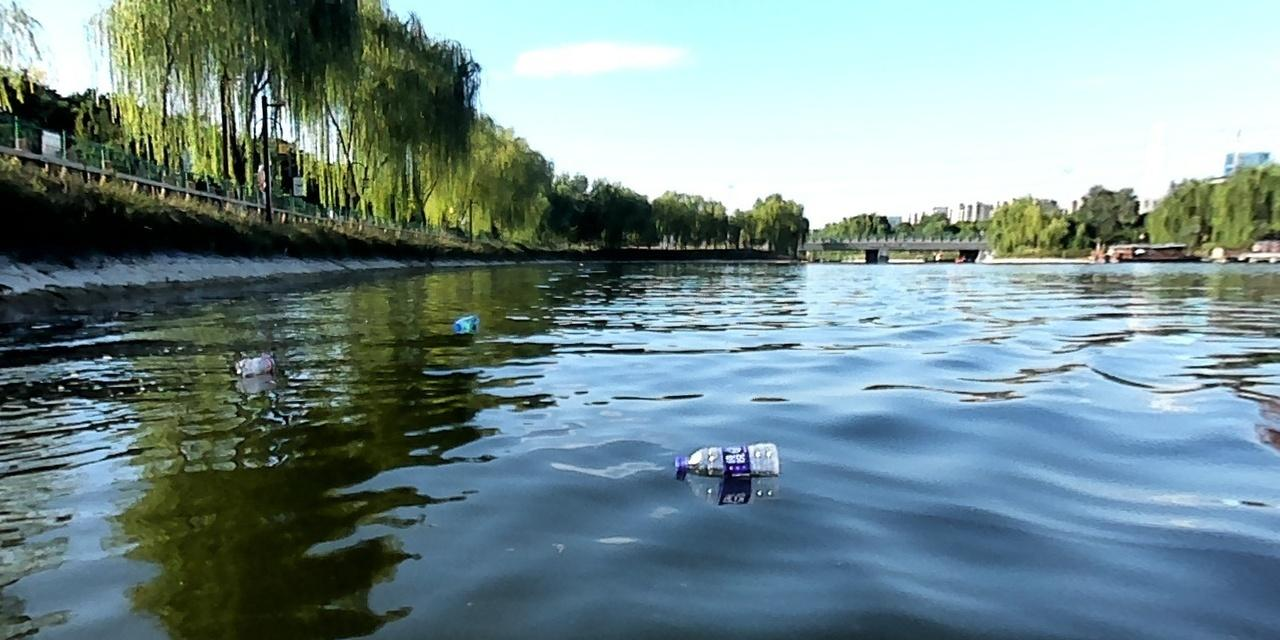bottle: (668, 438, 783, 482), (230, 349, 278, 379), (451, 310, 482, 335)
